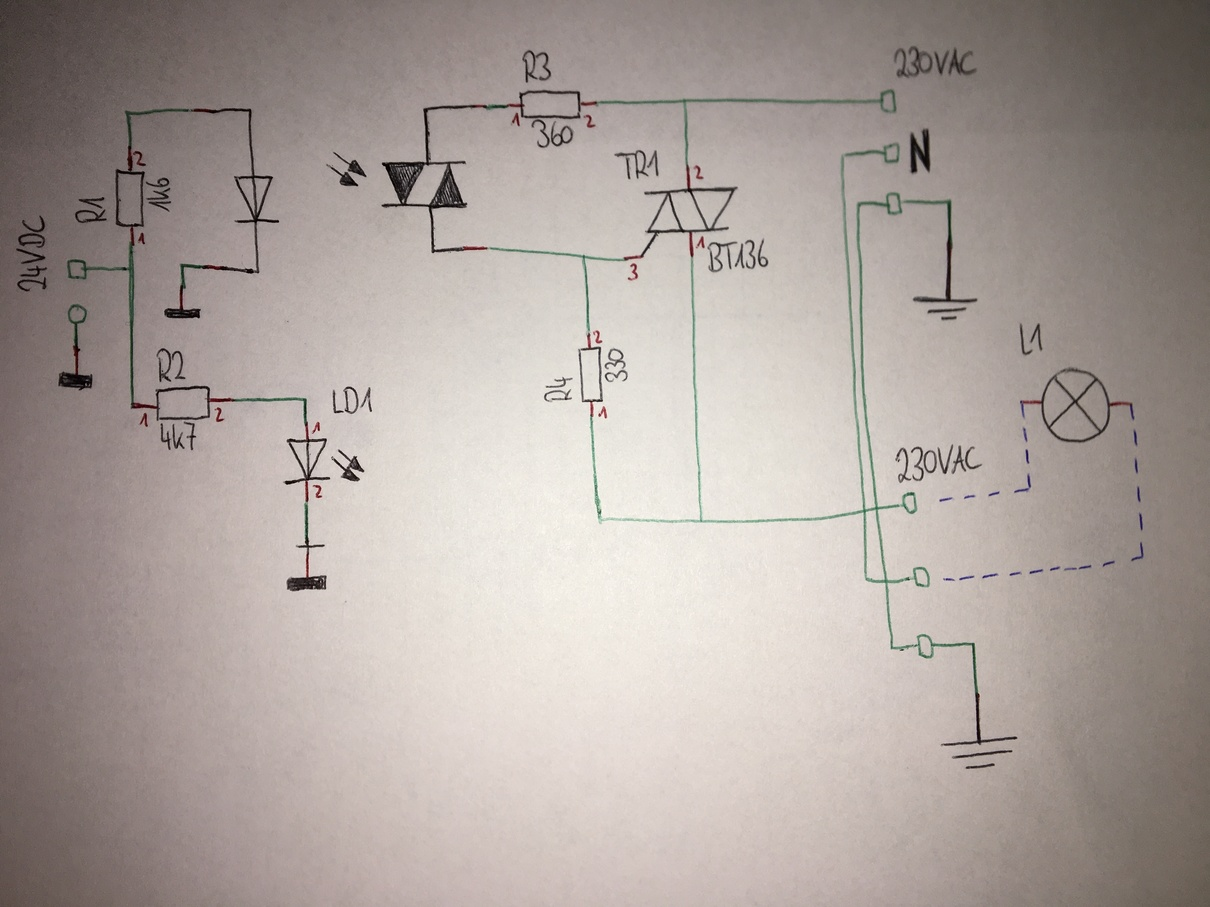crossover: (880, 575, 892, 588), (872, 502, 882, 514), (860, 505, 869, 515)
diode.light_emitting: (281, 435, 367, 487)
gnd: (938, 730, 1024, 774), (909, 290, 983, 325), (283, 571, 331, 596), (55, 368, 95, 392), (162, 302, 205, 323)
junction: (594, 514, 608, 528), (251, 264, 264, 278), (125, 262, 138, 274), (695, 515, 708, 527), (176, 259, 189, 271), (1125, 397, 1137, 409), (121, 107, 133, 119), (968, 638, 979, 650), (861, 573, 872, 585), (1024, 483, 1036, 494), (1016, 396, 1027, 408), (944, 195, 955, 207), (679, 95, 691, 106), (427, 246, 439, 256), (245, 104, 255, 116), (128, 400, 138, 412), (887, 643, 898, 653), (854, 199, 864, 210), (637, 251, 647, 262), (838, 151, 848, 161), (579, 251, 589, 261), (301, 394, 311, 404), (1138, 551, 1147, 561), (420, 105, 430, 114)
lamp: (1039, 365, 1113, 445)
optocoupler: (230, 149, 471, 226)
resistor: (152, 383, 214, 421), (112, 166, 147, 229), (517, 88, 584, 120), (576, 345, 604, 404)
terminal: (64, 257, 90, 282), (877, 87, 899, 116), (65, 302, 89, 326), (881, 139, 902, 166)
text: (892, 442, 984, 485), (891, 43, 983, 81), (14, 212, 51, 296), (705, 236, 771, 274), (612, 148, 661, 181), (329, 384, 375, 417), (531, 117, 576, 150), (157, 420, 200, 454), (906, 126, 933, 177), (518, 47, 554, 85), (154, 346, 188, 385), (72, 195, 109, 225), (1017, 320, 1046, 357), (144, 175, 172, 213), (604, 346, 630, 386), (541, 374, 574, 403), (132, 149, 149, 169), (625, 261, 641, 282), (582, 113, 599, 130), (212, 405, 226, 424), (692, 163, 705, 181), (509, 111, 522, 129), (139, 410, 151, 429), (597, 404, 610, 421), (312, 482, 324, 500), (310, 420, 324, 435), (694, 234, 706, 251), (592, 328, 603, 345), (137, 230, 148, 246)
triac: (638, 182, 743, 245)
